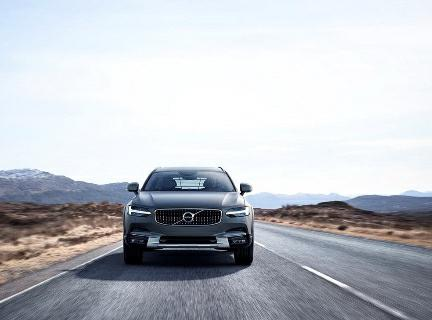沃尔沃-V90: (119, 165, 260, 274)
